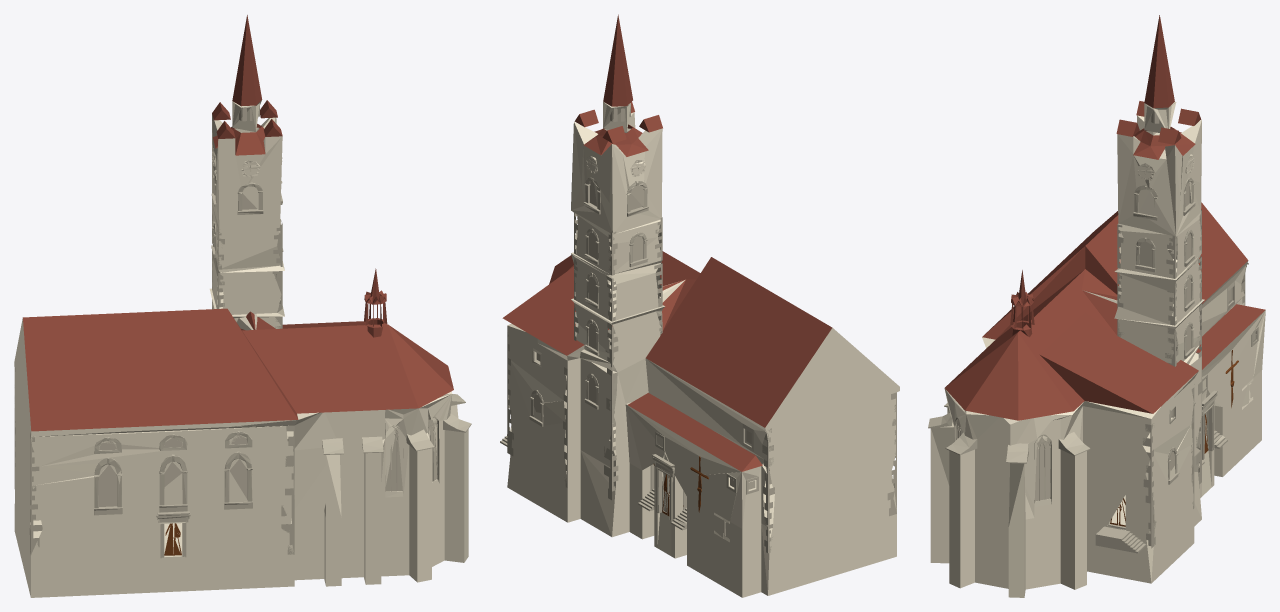
File: kostel_sv_bartolomeje.glb
The picture shows the model from 3 angles, left to right: view 1: azimuth 30°, elevation 25°; view 2: azimuth 150°, elevation 25°; view 3: azimuth 270°, elevation 25°; orthographic projection. The views are drawn at different scales.
Parts seen in each view (by area): view 1: kostel_sv_Bartolomeje; view 2: kostel_sv_Bartolomeje; view 3: kostel_sv_Bartolomeje.
Part boxes in pixels (box(x1,y1,x2,y2)): kostel_sv_Bartolomeje: box(14, 15, 471, 597); kostel_sv_Bartolomeje: box(500, 14, 899, 597); kostel_sv_Bartolomeje: box(928, 15, 1265, 597).
Size of the model in its own units: 36.63 by 44.63 by 26.65.
